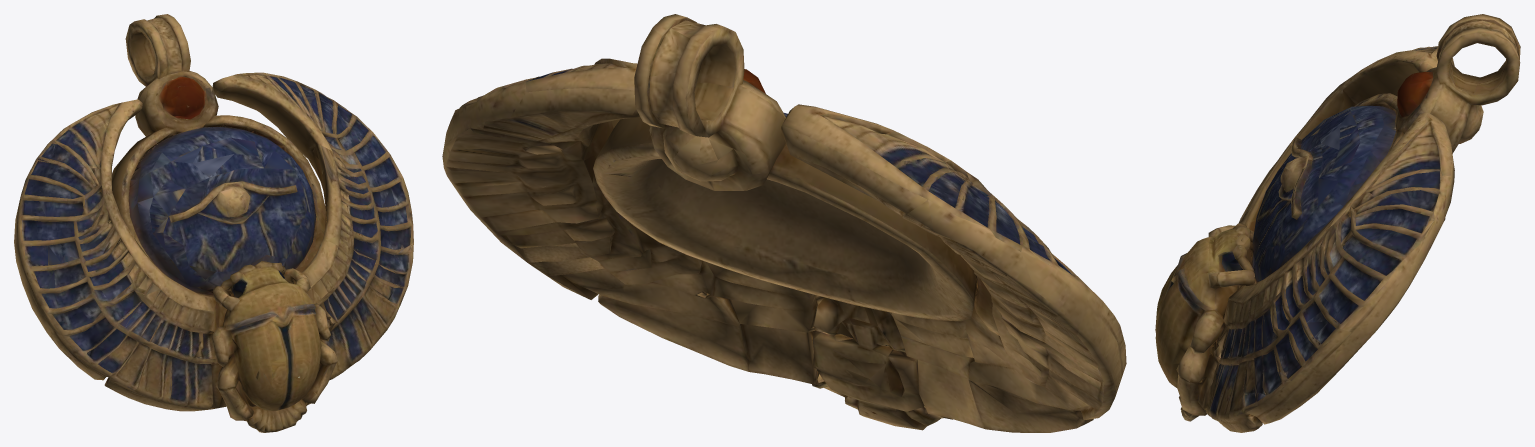
Rendered from amulet_altrazin.glb.
3 renders of one model, left to right at view 1: azimuth 30°, elevation 25°; view 2: azimuth 150°, elevation 25°; view 3: azimuth 270°, elevation 25°, orthographic. The views are drawn at different scales.
Parts seen in each view (by area): view 1: prop; view 2: prop; view 3: prop.
Part boxes in pixels (x1,y1,x2,y2): prop: (14, 14, 413, 432); prop: (442, 14, 1126, 432); prop: (1155, 14, 1520, 432).
Size of the model in its own units: 0.09 by 0.0737 by 0.0624.
Materials: 1 (1 with a texture image).
